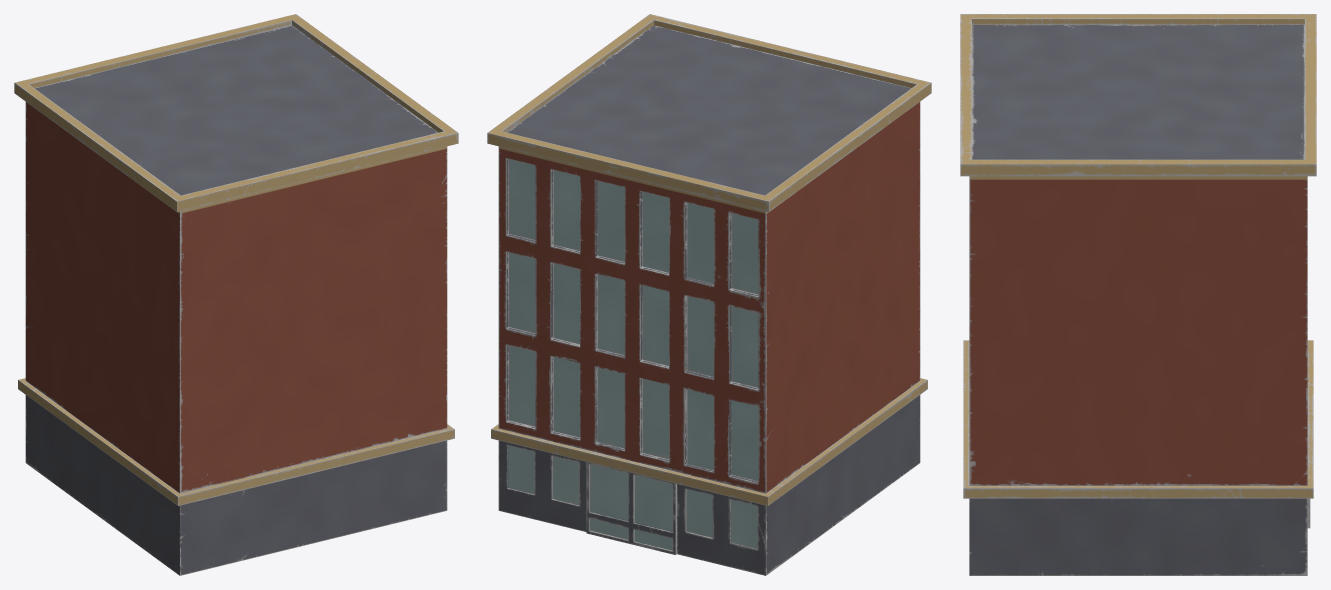
The model's file is Highrise_2.fbx.
The picture shows the model from 3 angles, left to right: view 1: azimuth 30°, elevation 25°; view 2: azimuth 150°, elevation 25°; view 3: azimuth 270°, elevation 25°; orthographic projection. The views are drawn at different scales.
Visible parts, largest first — view 1: Highrise.001; view 2: Highrise.001; view 3: Highrise.001.
Part boxes in pixels (x1,y1,x2,y2): Highrise.001: (14,14,458,575); Highrise.001: (487,14,931,575); Highrise.001: (960,14,1316,575).
Size of the model in its own units: 211 by 271 by 211.
1 material, 1 textured.
